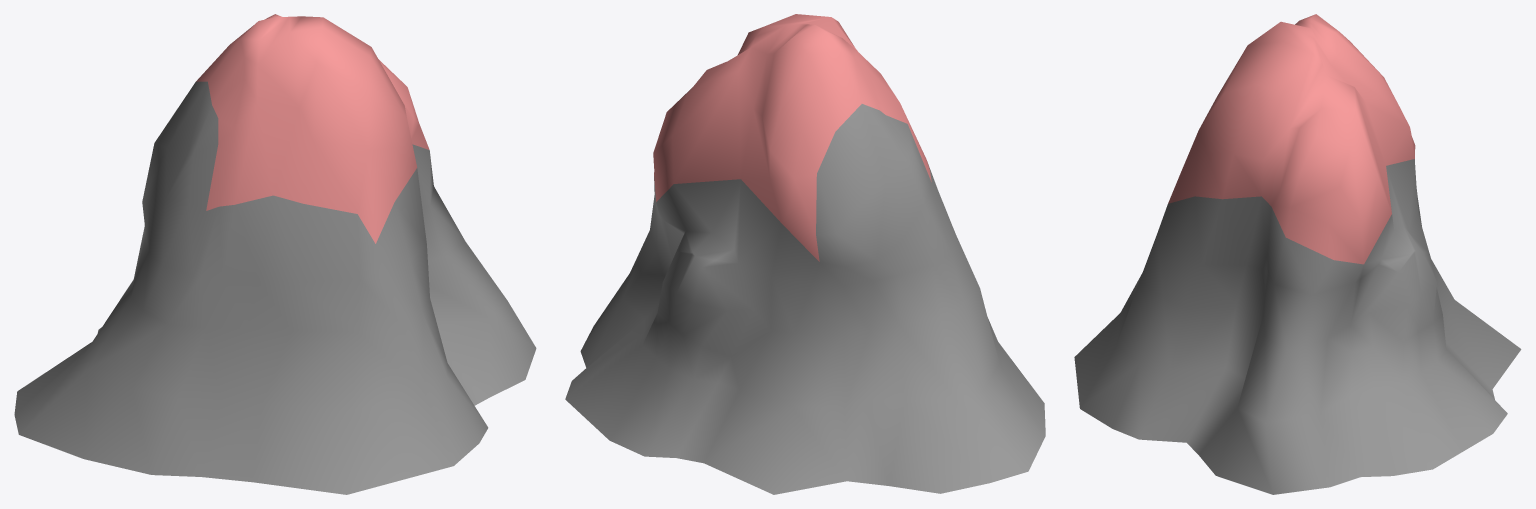
The model's file is beachBstone3.gltf.
3 views of the same model, side by side, from view 1: azimuth 30°, elevation 25°; view 2: azimuth 150°, elevation 25°; view 3: azimuth 270°, elevation 25° (orthographic). The views are drawn at different scales.
Visible parts, largest first — view 1: beachBstone3; view 2: beachBstone3; view 3: beachBstone3.
Part boxes in pixels (x1,y1,x2,y2): beachBstone3: (14, 14, 536, 494); beachBstone3: (565, 14, 1045, 494); beachBstone3: (1074, 14, 1521, 494).
Size of the model in its own units: 7.37 by 5.55 by 6.2.
